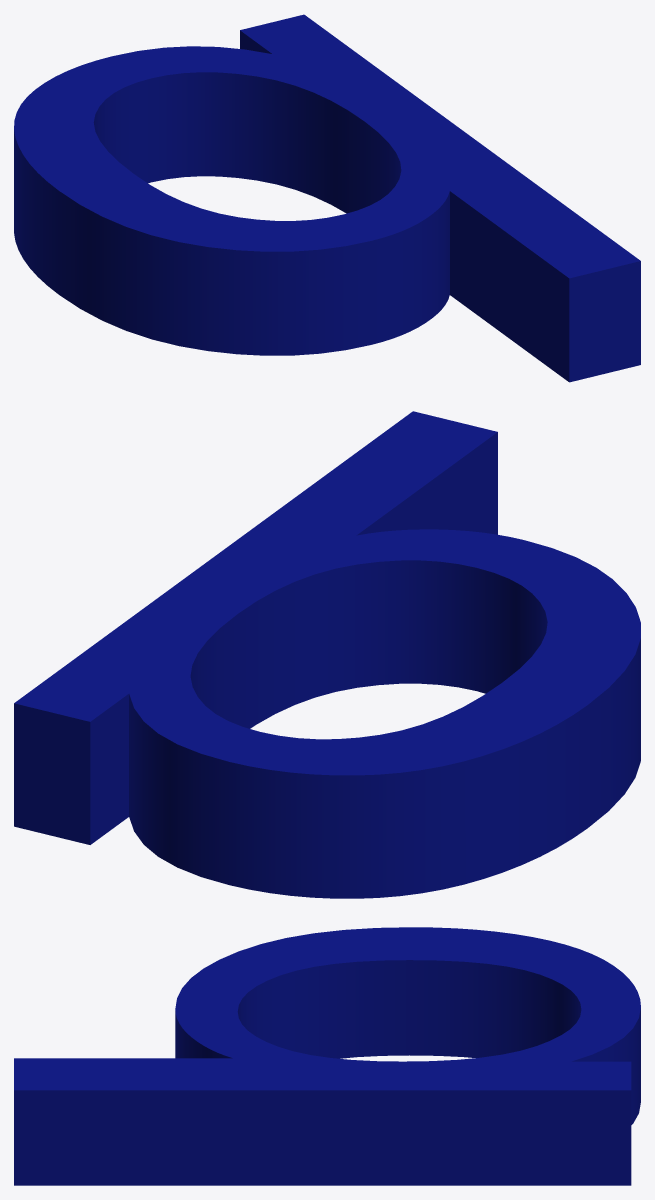
The picture shows the model from 3 angles, top to bottom: view 1: azimuth 30°, elevation 25°; view 2: azimuth 150°, elevation 25°; view 3: azimuth 270°, elevation 25°; orthographic projection. The views are drawn at different scales.
Parts seen in each view (by area): view 1: TextPlus043; view 2: TextPlus043; view 3: TextPlus043.
Boxes of the visible parts, x1,y1,x2,y2 form: TextPlus043: [14, 14, 640, 382]; TextPlus043: [14, 411, 640, 898]; TextPlus043: [14, 927, 640, 1185].
Size of the model in its own units: 16.08 by 4.38 by 26.12.
